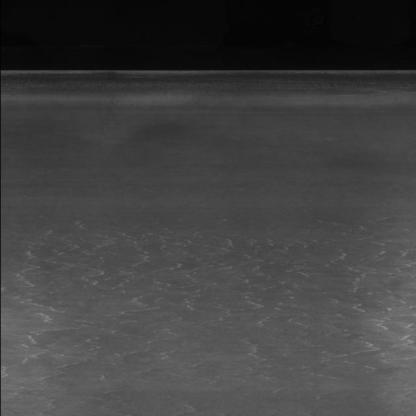silk_spot: (250, 238, 416, 380), (110, 236, 246, 376), (9, 244, 109, 366)
